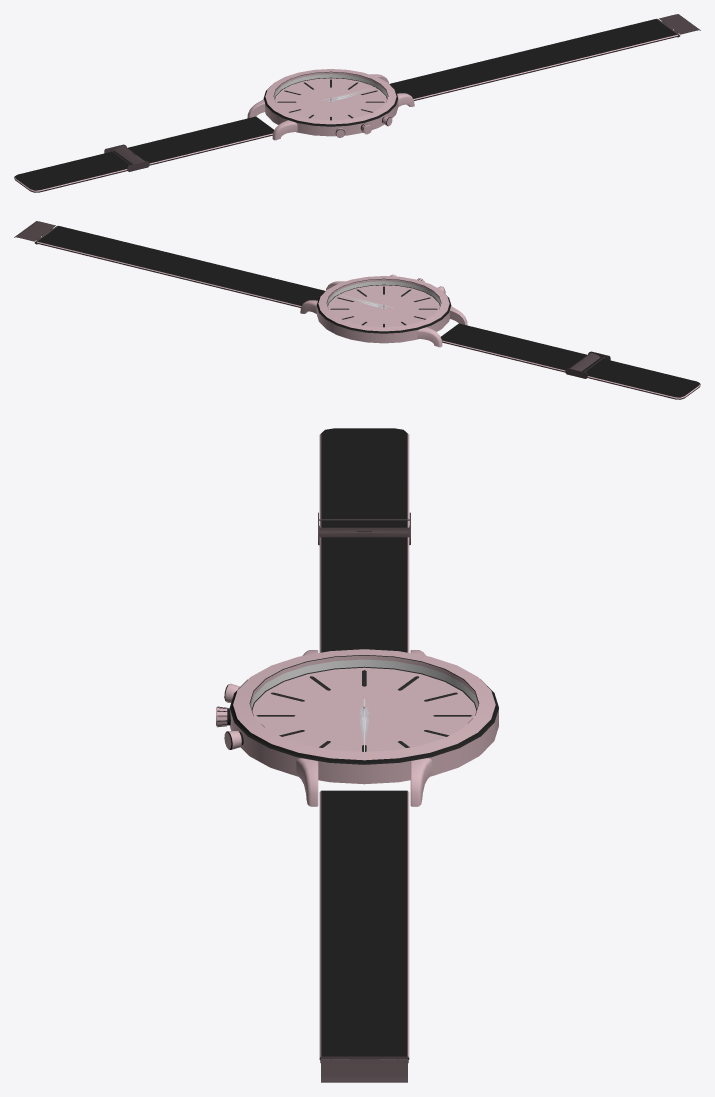
Rendered from Watch.fbx.
3 renders of one model, top to bottom at view 1: azimuth 30°, elevation 25°; view 2: azimuth 150°, elevation 25°; view 3: azimuth 270°, elevation 25°, orthographic. The views are drawn at different scales.
Parts seen in each view (by area): view 1: Watch.004; view 2: Watch.004; view 3: Watch.004.
Part boxes in pixels (x1,y1,x2,y2): Watch.004: [14, 14, 700, 192]; Watch.004: [14, 221, 700, 399]; Watch.004: [216, 428, 498, 1082].
Bounding box in the file's own units: 0.2916 × 0.00727 × 0.0536.
